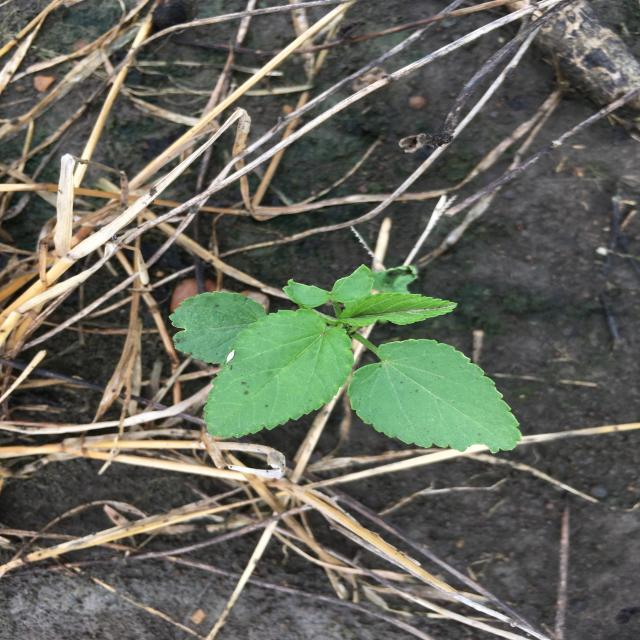PricklySida: (169, 265, 522, 453)
